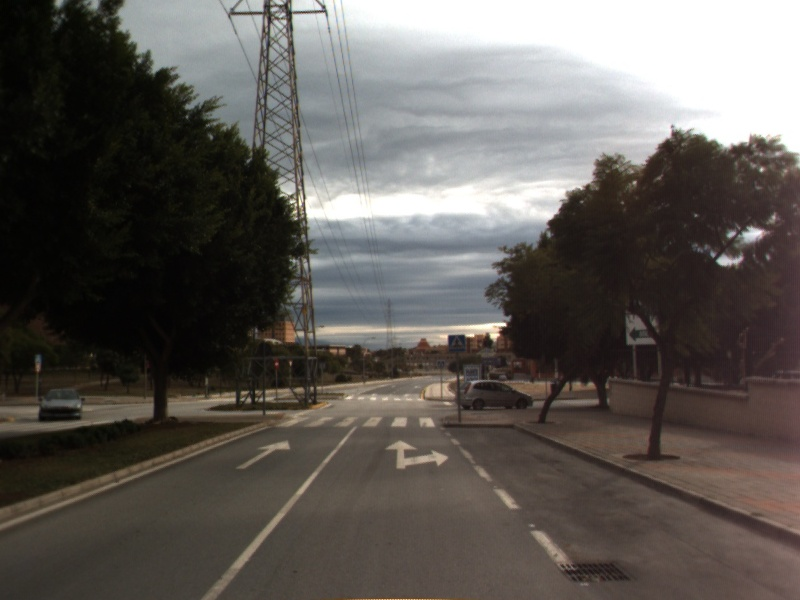STRAIGHT: (234, 437, 292, 471)
STRAIGHT_RIGHT: (383, 438, 451, 471)
